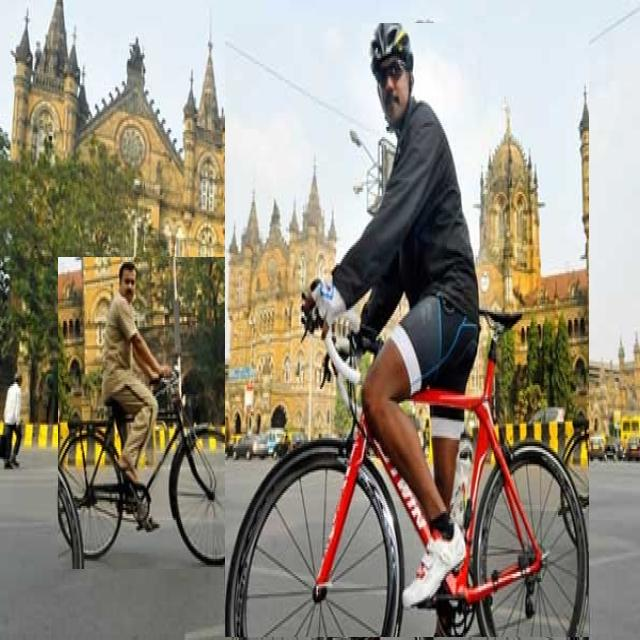bicycle: (225, 24, 589, 637), (58, 257, 251, 569)
